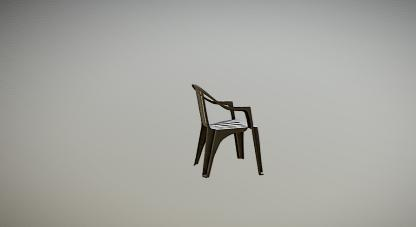chair: (187, 81, 269, 181)
